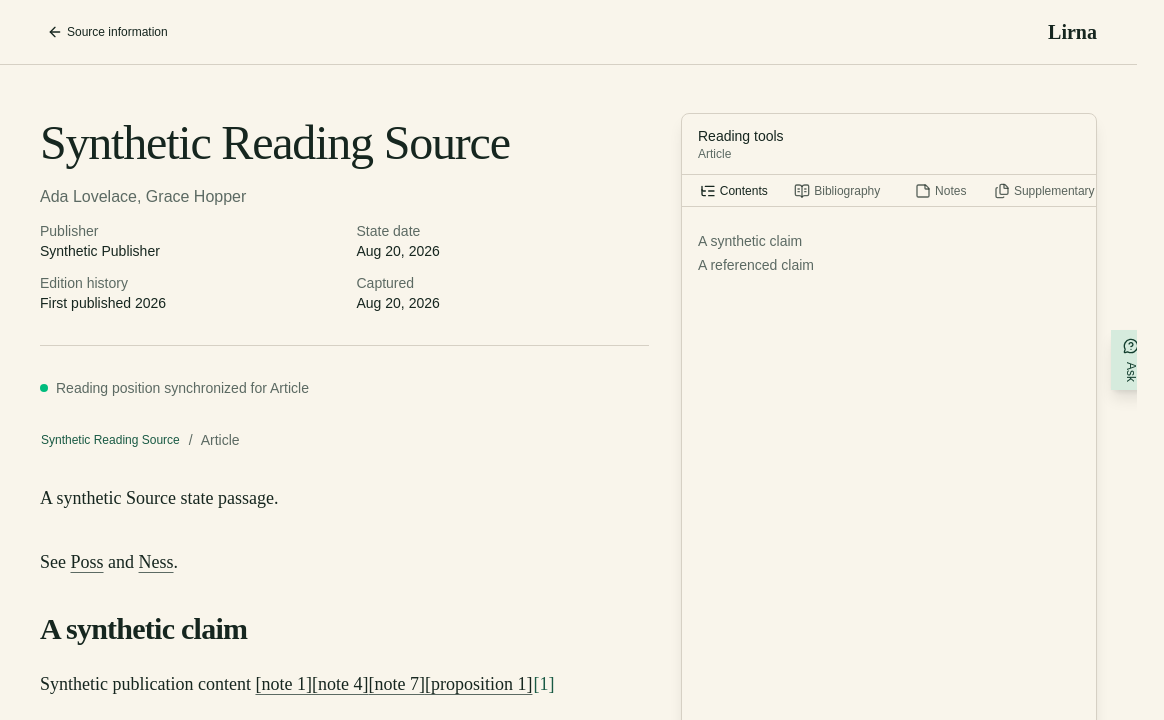
it: opens a Source-grounded assistant beside the reading workspace
Expected: the text "A synthetic Source state passage." is shown, left=40, top=488, right=278, bottom=508
Expected: the element "Research assistant" is not shown
Click the button with aria-label "Ask this Source" at (1131, 360), box left=1110, top=329, right=1152, bottom=391
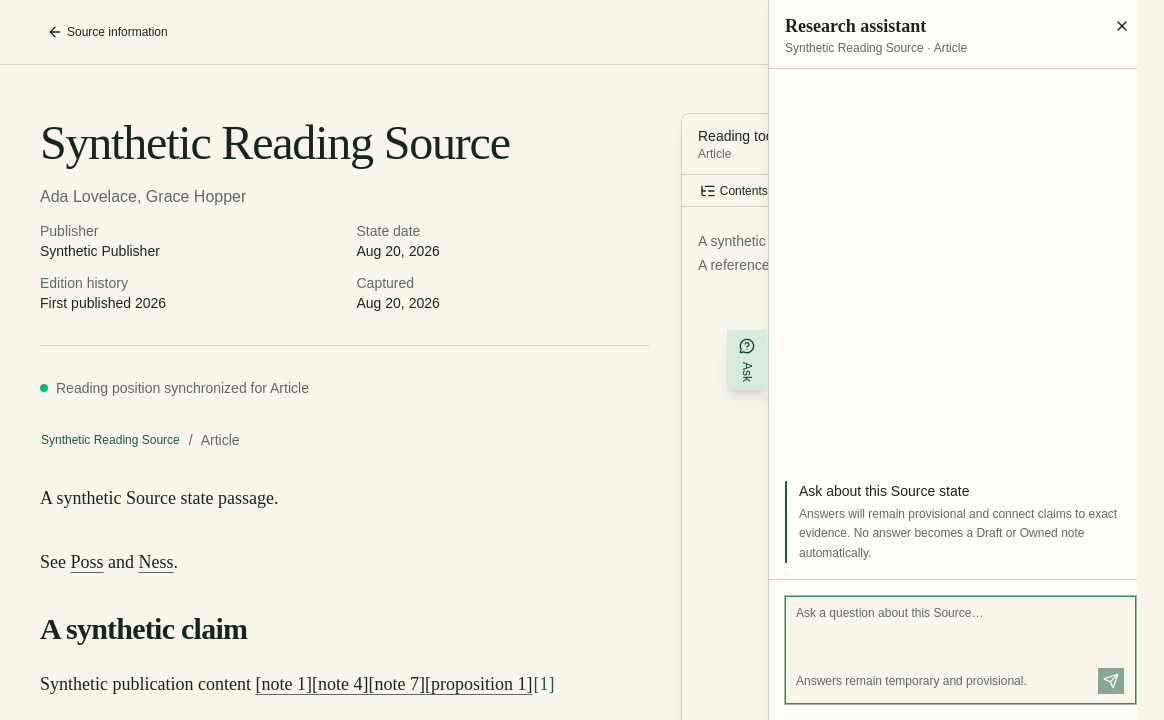
Now the button with aria-label "Ask this Source" is expanded, box left=726, top=329, right=768, bottom=391
Now the text box labelled "question" is shown, box left=786, top=597, right=1135, bottom=661
Now the button named "Send question" is disabled, box left=1097, top=667, right=1125, bottom=695
Click the button named "Close assistant" at (1122, 26), box left=1108, top=12, right=1136, bottom=40
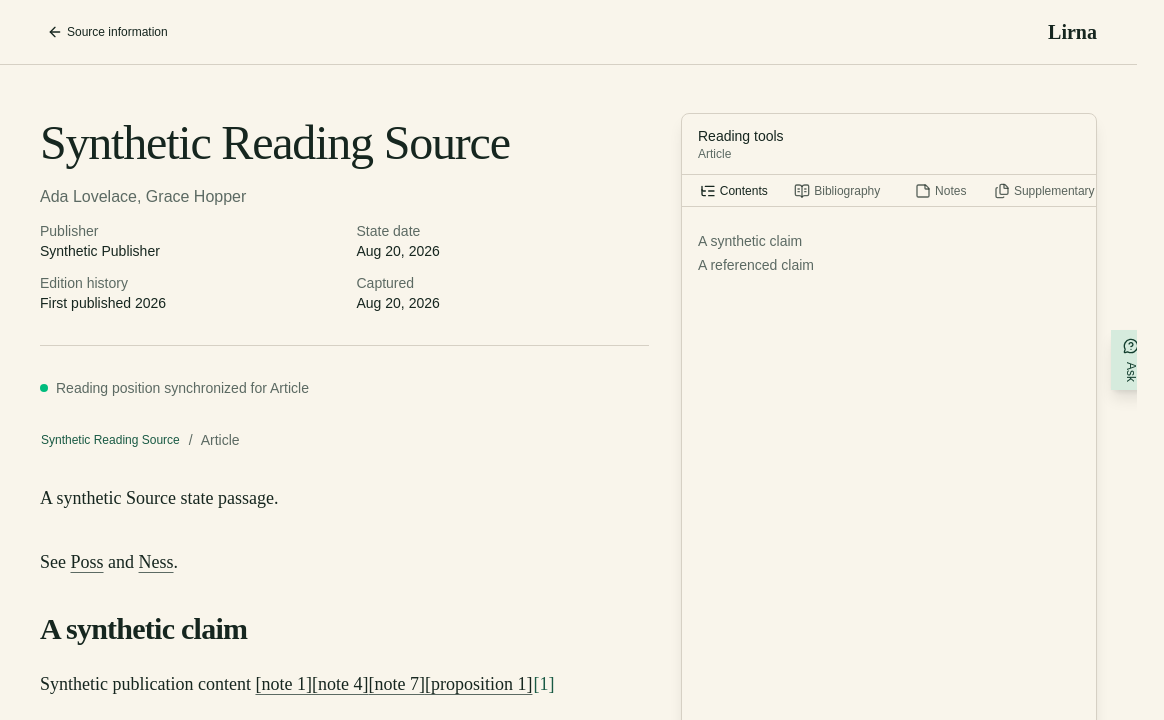
Now the heading "Research assistant" is gone
Now the button with aria-label "Ask this Source" is collapsed, box left=1110, top=329, right=1152, bottom=391
